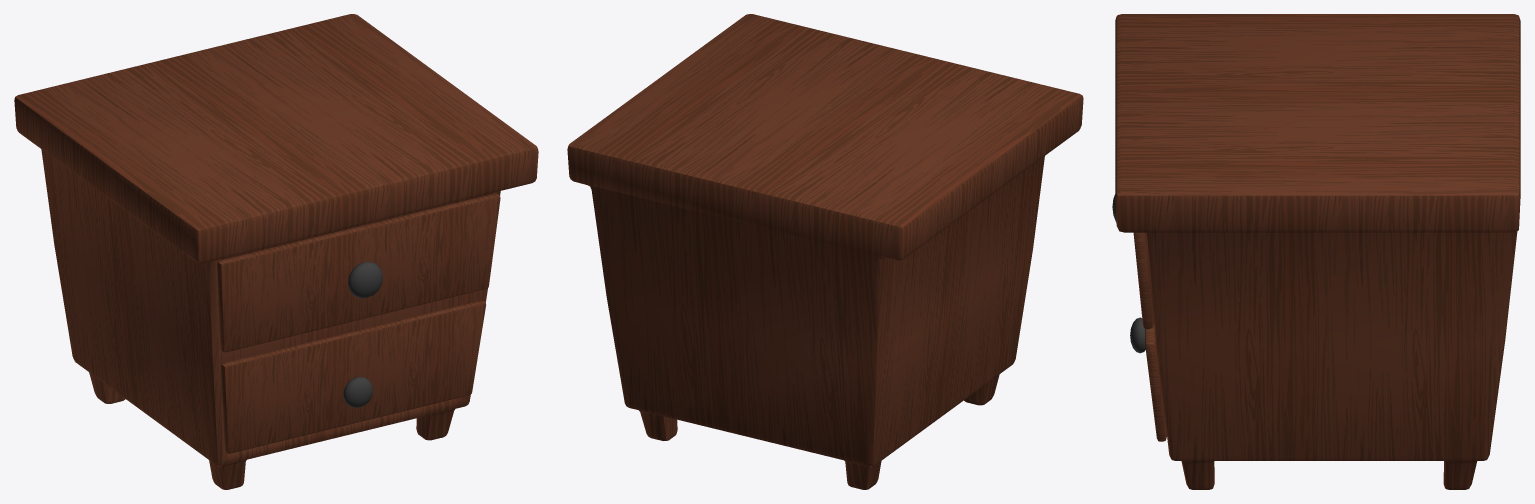
Rendered from New_Bedside_Drawer.fbx.
3 views of the same model, side by side, from view 1: azimuth 30°, elevation 25°; view 2: azimuth 150°, elevation 25°; view 3: azimuth 270°, elevation 25° (orthographic). The views are drawn at different scales.
Visible parts, largest first — view 1: Bedside_Drawer, Drawer_T, Drawer_B, Sphere004, Sphere002; view 2: Bedside_Drawer; view 3: Bedside_Drawer, Drawer_B, Drawer_T, Sphere002.
Part boxes in pixels (x1,y1,x2,y2): Bedside_Drawer: (14,14,538,489); Drawer_T: (217,194,500,352); Drawer_B: (221,300,485,453); Sphere004: (348,262,382,297); Sphere002: (343,377,372,407); Bedside_Drawer: (567,14,1083,489); Bedside_Drawer: (1115,14,1520,489); Drawer_B: (1145,323,1166,441); Drawer_T: (1133,232,1153,328); Sphere002: (1130,317,1145,353).
Size of the model in its own units: 74.53 by 62.49 by 70.31.
Materials: 2 (1 with a texture image).
